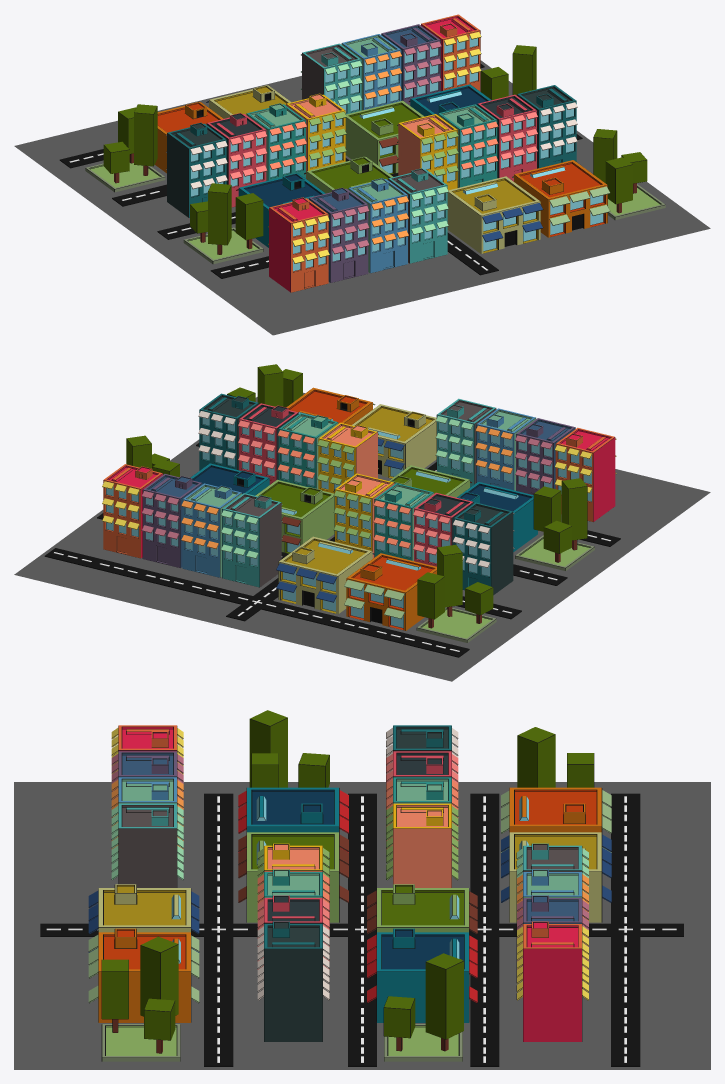
File: Map.fbx
3 views of the same model, one above another, from view 1: azimuth 30°, elevation 25°; view 2: azimuth 150°, elevation 25°; view 3: azimuth 270°, elevation 25° (orthographic). The views are drawn at different scales.
Visible parts, largest first — view 1: Plane, Cube.029, Cube.015, Cube.030, Cube.035, Cube.011, Cube.036, Cube.014, Cube.013, Cube.012, Cube.034, Cube.020 (+20 smaller); view 2: Plane, Cube.024, Cube.036, Cube.017, Cube.018, Cube.035, Cube.011, Cube.015, Cube.029, Cube.025, Cube.026, Cube.023 (+21 smaller); view 3: Plane, Cube.026, Cube.022, Cube.034, Cube.033, Cube.028, Cube.013, Cube.009, Cube.016, Cube.018, Cube.030, Cube.029 (+27 smaller).
Part boxes in pixels (bbox=[...]): Plane: bbox=[14, 60, 710, 335]; Cube.029: bbox=[447, 176, 543, 253]; Cube.015: bbox=[268, 197, 329, 292]; Cube.030: bbox=[512, 160, 610, 237]; Cube.035: bbox=[183, 183, 263, 264]; Cube.011: bbox=[166, 122, 227, 217]; Cube.036: bbox=[85, 104, 165, 192]; Cube.014: bbox=[308, 187, 369, 282]; Cube.013: bbox=[388, 168, 448, 263]; Cube.012: bbox=[348, 178, 408, 273]; Cube.034: bbox=[593, 129, 665, 219]; Cube.020: bbox=[397, 114, 458, 190]; Plane: bbox=[14, 392, 710, 681]; Cube.024: bbox=[221, 493, 282, 587]; Cube.036: bbox=[416, 544, 496, 642]; Cube.017: bbox=[276, 536, 374, 614]; Cube.018: bbox=[344, 553, 436, 630]; Cube.035: bbox=[515, 478, 594, 570]; Cube.011: bbox=[452, 502, 514, 595]; Cube.015: bbox=[554, 427, 616, 521]; Cube.029: bbox=[352, 404, 436, 478]; Cube.025: bbox=[141, 474, 202, 567]; Cube.026: bbox=[102, 464, 162, 558]; Cube.023: bbox=[181, 483, 241, 577]; Plane: bbox=[14, 782, 710, 1069]; Cube.026: bbox=[516, 921, 588, 1041]; Cube.022: bbox=[257, 921, 329, 1041]; Cube.034: bbox=[101, 936, 180, 1061]; Cube.033: bbox=[383, 953, 463, 1061]; Cube.028: bbox=[367, 928, 477, 1022]; Cube.013: bbox=[111, 803, 183, 887]; Cube.009: bbox=[386, 803, 458, 887]; Cube.016: bbox=[238, 787, 348, 852]; Cube.018: bbox=[501, 787, 611, 852]; Cube.030: bbox=[88, 928, 199, 1022]; Cube.029: bbox=[88, 884, 199, 952].
Bounding box in the file's own units: 23.07 × 3.85 × 23.62.
